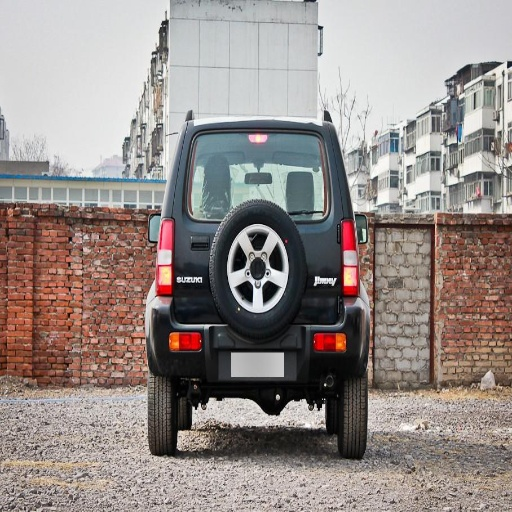trunk: (168, 131, 338, 314)
